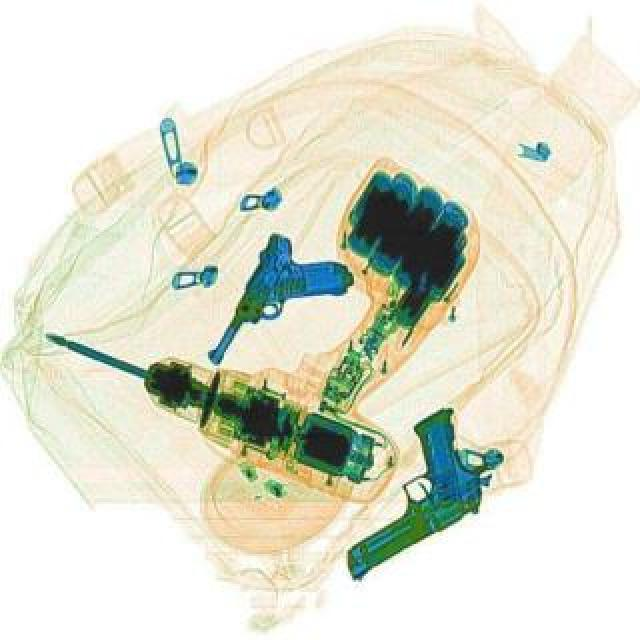gun: (292, 396, 516, 580), (200, 228, 360, 398)
